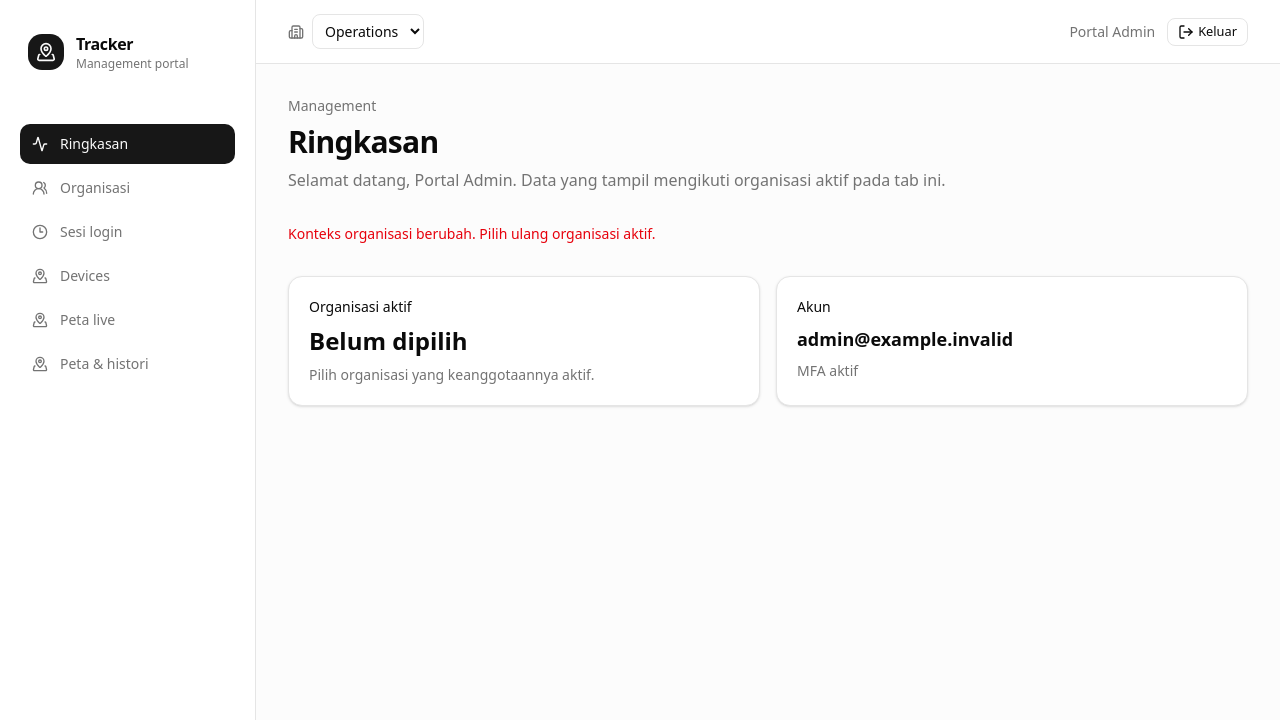
it: tracking management portal › filters targets through the API, follows opaque cursors, and opens tenant-scoped details
Click the link "Devices".
click(71, 276)  # box [32,266,110,285]
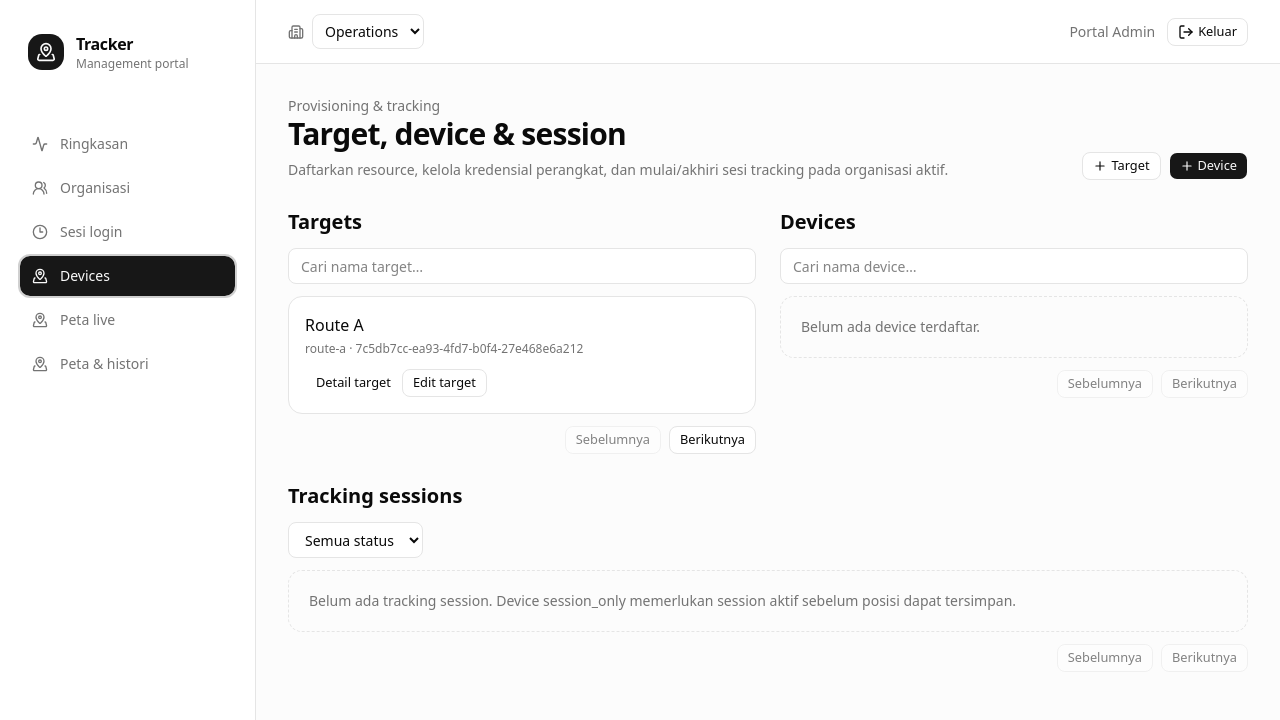
Type "Route" into the field named "Cari target".
click(522, 266); type("Route")  # box [288,248,756,284]
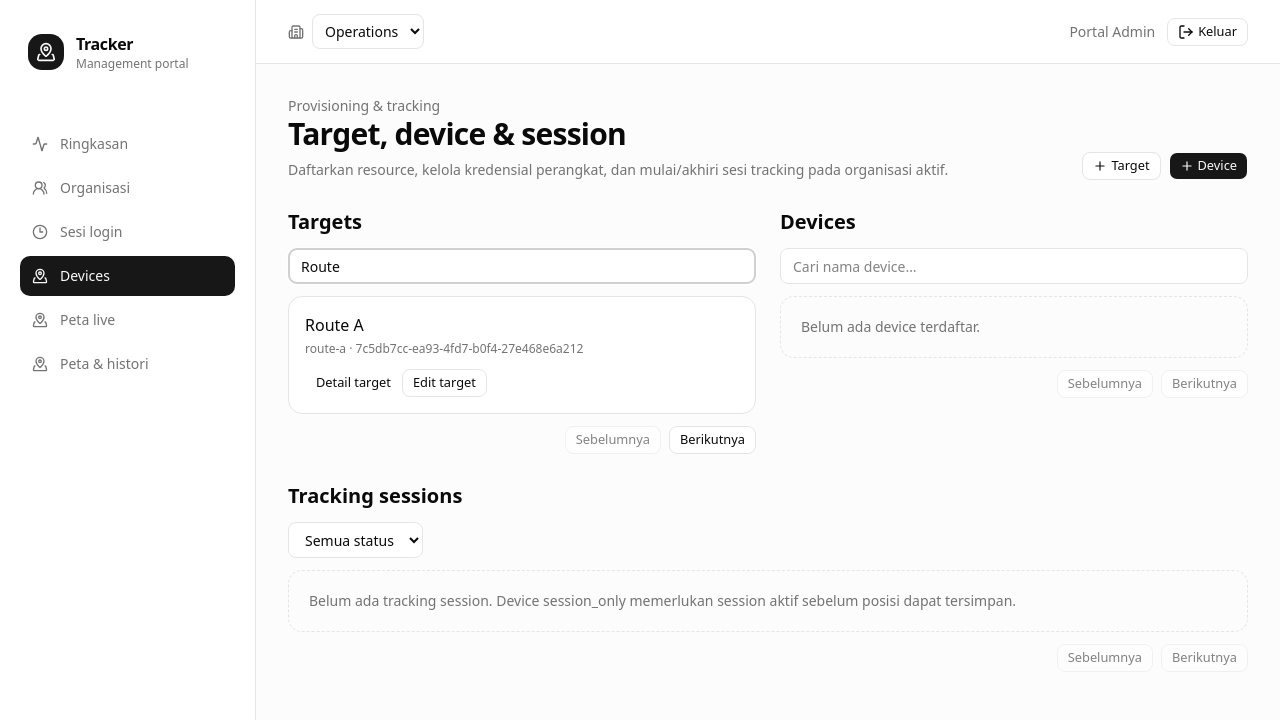
Click the button "Berikutnya" below "7c5db7cc-ea93-4fd7-b0f4-27e468e6a212".
click(712, 440)  # box [669,426,756,454]
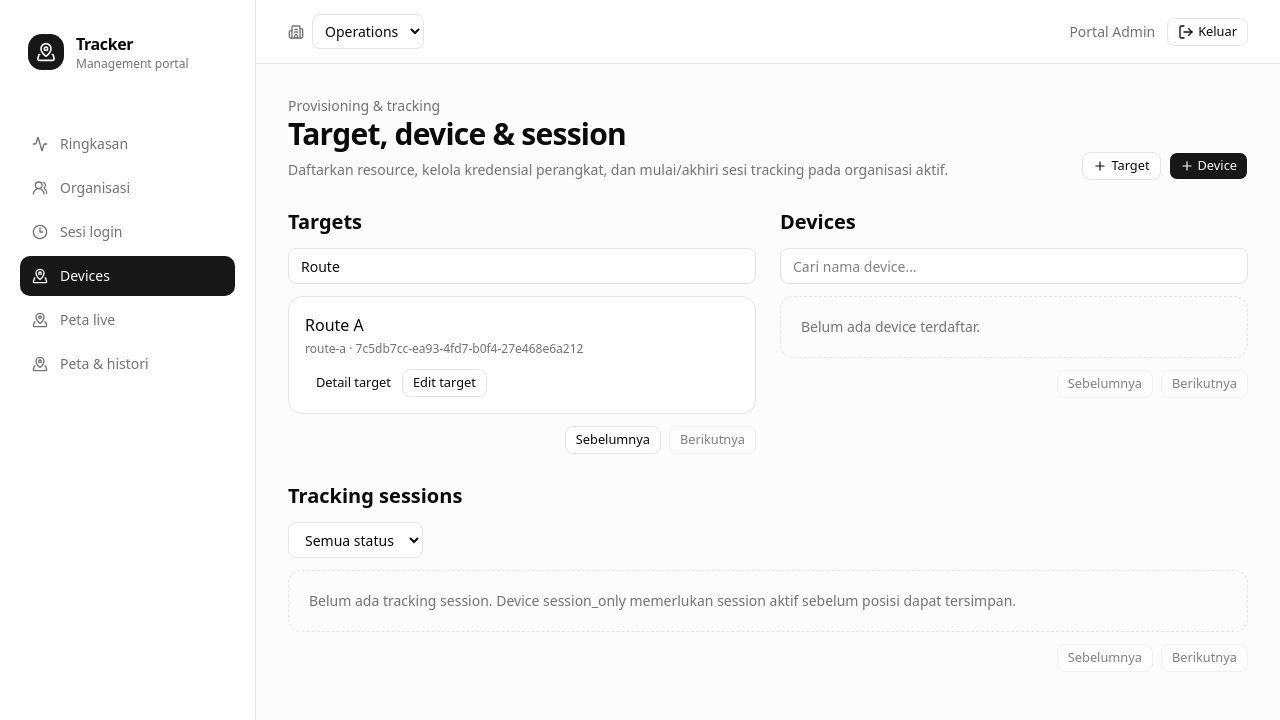
Click the button "Detail target".
click(354, 383)  # box [305,369,402,397]
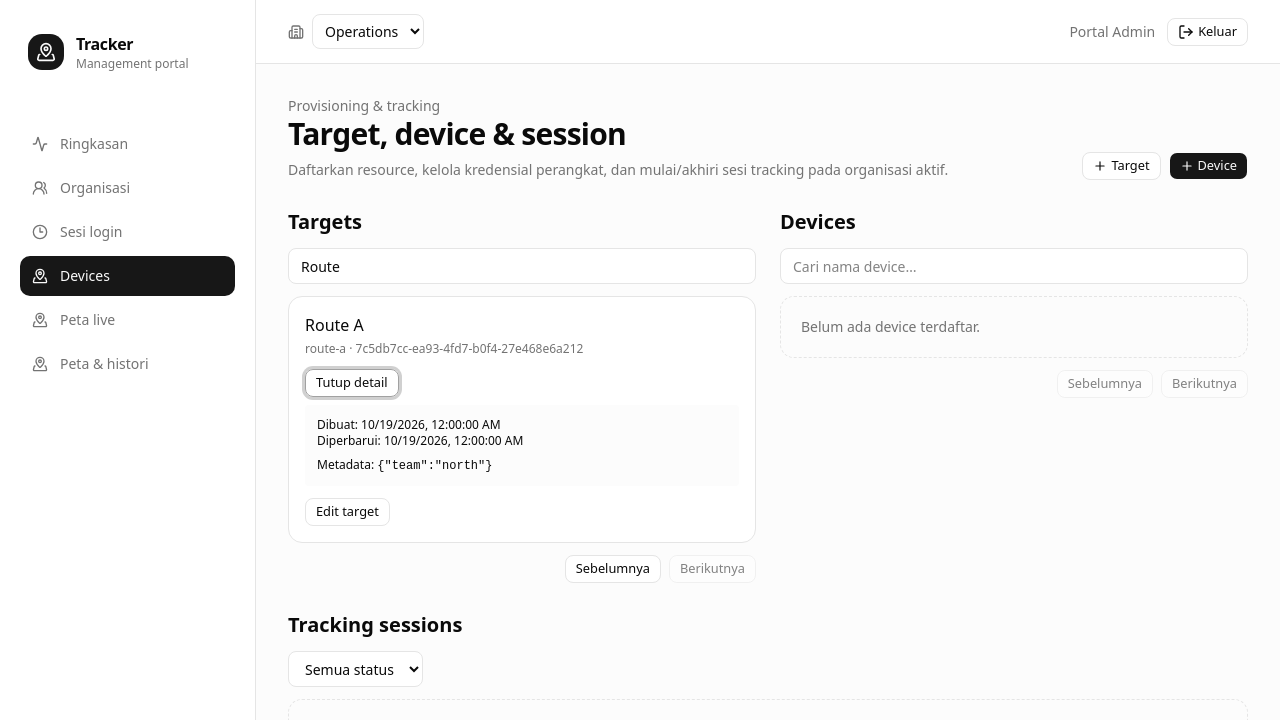
Expected: the text "Metadata: {\"team\":\"north\"}" is shown, [317,456,492,473]
Expected: the text "{\"team\":\"north\"}" is shown, [377,459,492,473]
